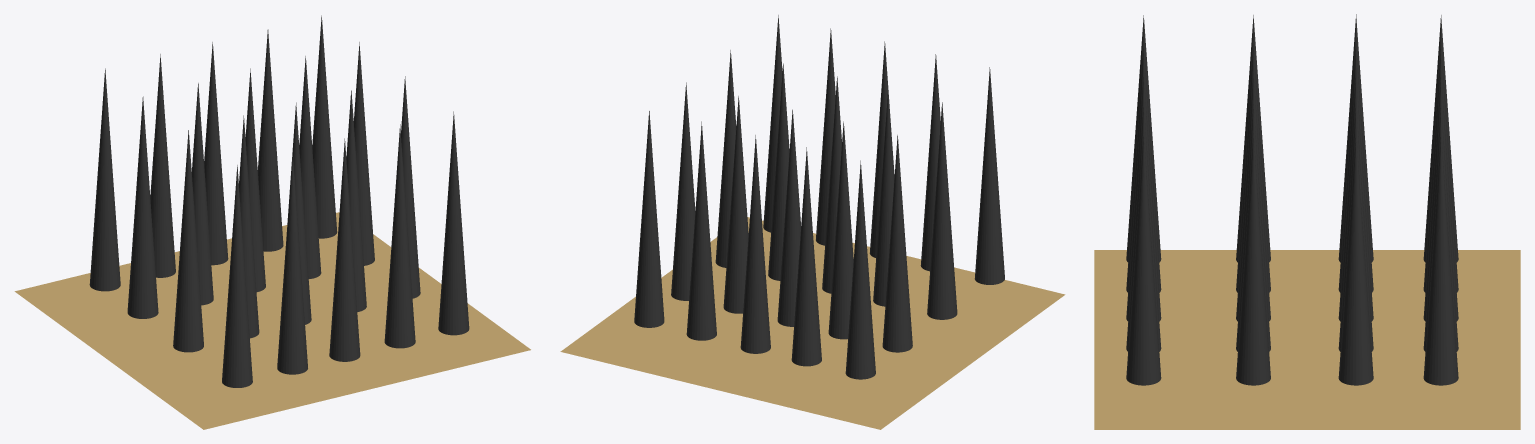
The model's file is Spike_Floor_0Wall.fbx.
3 renders of one model, left to right at view 1: azimuth 30°, elevation 25°; view 2: azimuth 150°, elevation 25°; view 3: azimuth 270°, elevation 25°, orthographic. The views are drawn at different scales.
Parts seen in each view (by area): view 1: Plane, Cone.003, Cone.019, Cone.002, Cone.009, Cone.014, Cone.001, Cone.004, Cone, Cone.018, Cone.016, Cone.015 (+9 smaller); view 2: Plane, Cone.019, Cone, Cone.009, Cone.016, Cone.018, Cone.015, Cone.014, Cone.017, Cone.013, Cone.011, Cone.010 (+9 smaller); view 3: Plane, Cone.015, Cone.004, Cone.010, Cone.005, Cone.012, Cone.014, Cone.007, Cone.009, Cone.017, Cone.019, Cone (+9 smaller).
Boxes of the visible parts, x1,y1,x2,y2 form: Plane: [14, 212, 530, 429]; Cone.003: [384, 124, 415, 348]; Cone.019: [89, 68, 120, 291]; Cone.002: [329, 138, 360, 361]; Cone.009: [173, 130, 203, 352]; Cone.014: [127, 96, 158, 318]; Cone.001: [277, 152, 307, 374]; Cone.004: [438, 111, 469, 335]; Cone: [222, 165, 252, 387]; Cone.018: [150, 54, 175, 277]; Cone.016: [257, 29, 283, 251]; Cone.015: [312, 15, 337, 238]; Plane: [560, 217, 1065, 429]; Cone.019: [845, 160, 875, 379]; Cone: [974, 67, 1004, 284]; Cone.009: [927, 102, 957, 319]; Cone.016: [686, 121, 716, 340]; Cone.018: [791, 147, 821, 366]; Cone.015: [634, 111, 664, 327]; Cone.014: [882, 135, 912, 352]; Cone.017: [740, 135, 770, 353]; Cone.013: [828, 121, 853, 339]; Cone.011: [723, 96, 748, 313]; Cone.010: [671, 82, 695, 300]; Plane: [1094, 250, 1520, 429]; Cone.015: [1423, 133, 1458, 385]; Cone.004: [1126, 134, 1161, 385]; Cone.010: [1338, 133, 1373, 385]; Cone.005: [1236, 133, 1270, 385]; Cone.012: [1338, 73, 1373, 321]; Cone.014: [1338, 14, 1373, 262]; Cone.007: [1236, 74, 1270, 321]; Cone.009: [1236, 15, 1270, 262]; Cone.017: [1423, 74, 1458, 321]; Cone.019: [1423, 15, 1458, 262]; Cone: [1126, 15, 1161, 262].
Bounding box in the file's own units: 257 × 177 × 257.
